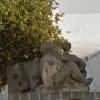Statue: (17, 38, 85, 92)
